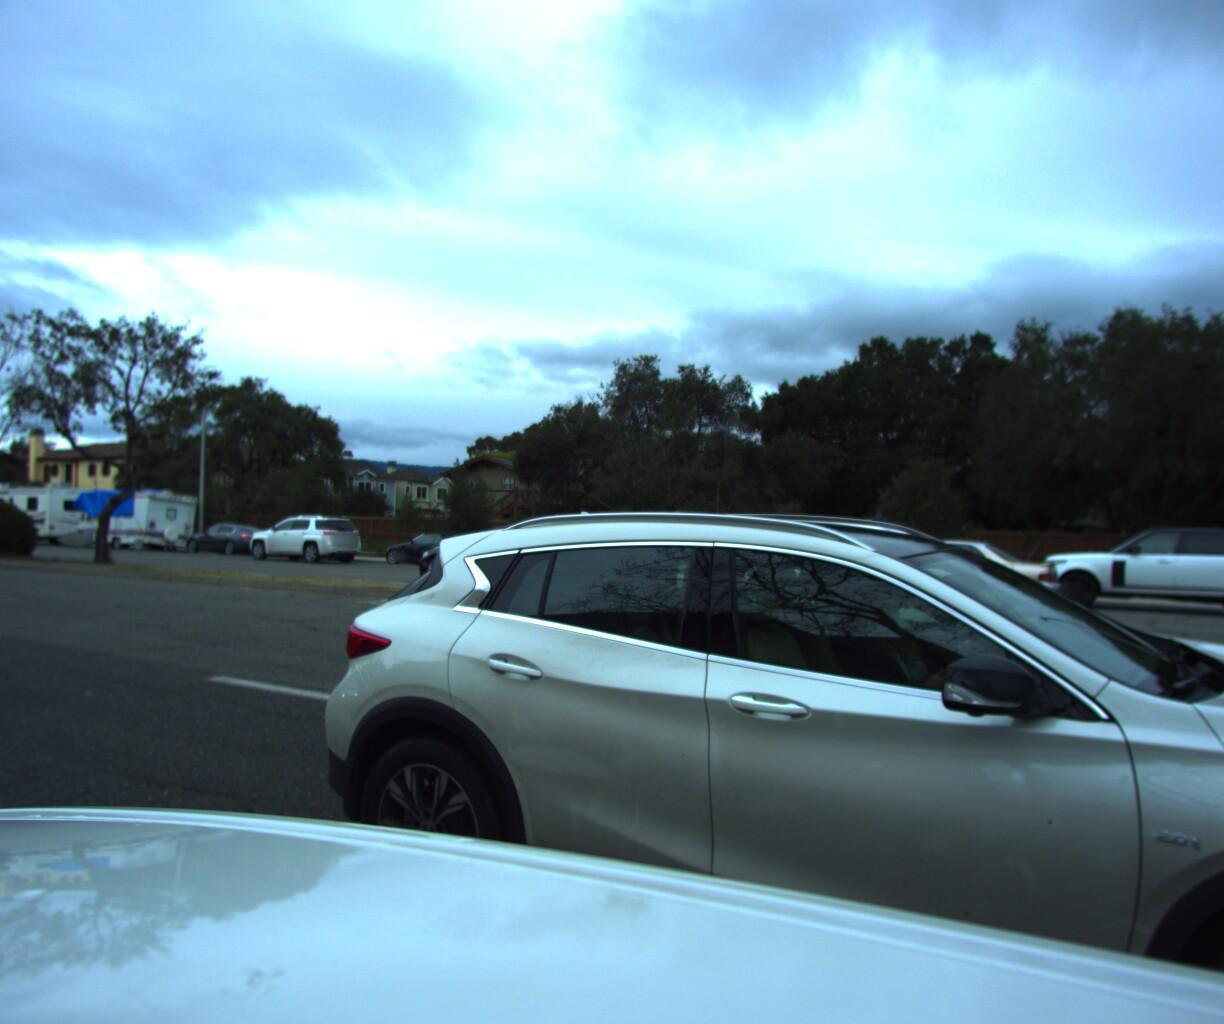car: (267, 495, 1224, 1024), (811, 521, 1074, 609), (1040, 516, 1224, 617), (408, 518, 635, 596), (720, 511, 929, 589), (235, 505, 370, 561), (524, 524, 662, 575), (375, 523, 498, 568), (178, 518, 276, 554)
other_vehicle: (62, 481, 201, 553), (0, 474, 99, 546)
